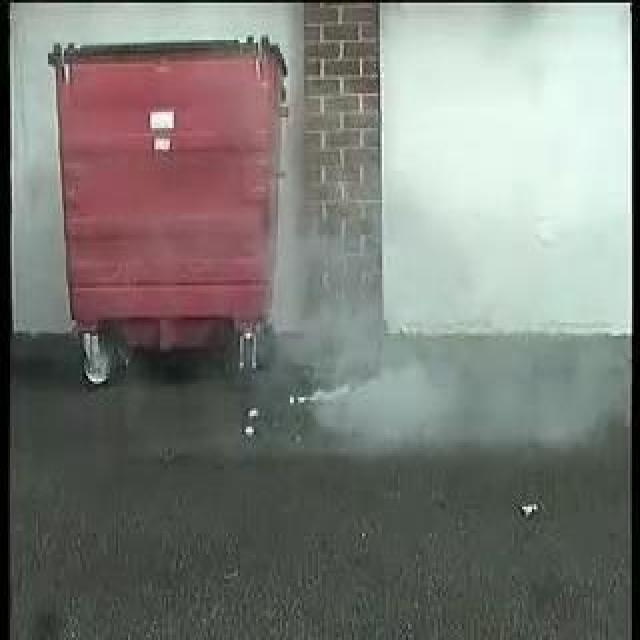Smoke: (280, 216, 432, 432)
